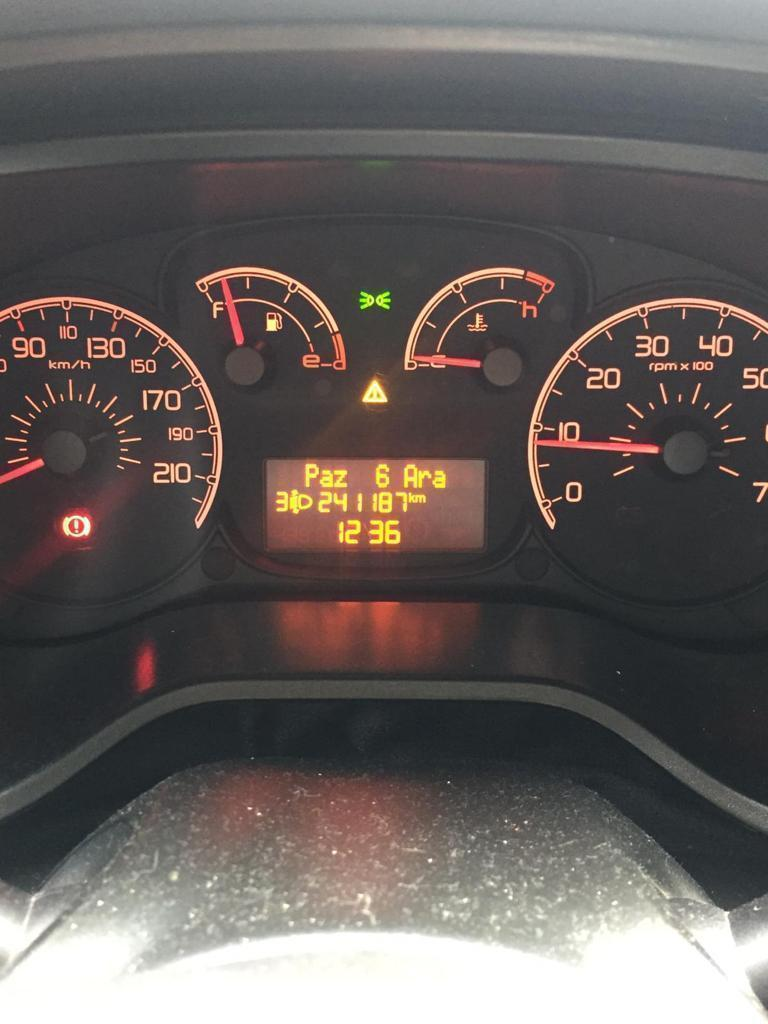1: (354, 491, 364, 513), (336, 520, 344, 544), (370, 491, 378, 513)
2: (344, 518, 361, 545), (317, 490, 331, 513)
3: (367, 518, 384, 545), (274, 489, 288, 513)
4: (332, 491, 348, 513)
6: (384, 519, 401, 545), (374, 463, 390, 489)
7: (394, 490, 407, 513)
8: (378, 490, 393, 514)
X: (402, 462, 417, 489), (303, 461, 318, 488), (417, 468, 432, 489), (432, 469, 447, 489), (333, 469, 348, 488), (318, 469, 333, 488), (414, 493, 426, 504), (407, 491, 414, 503)
odometer: (261, 454, 491, 556)
